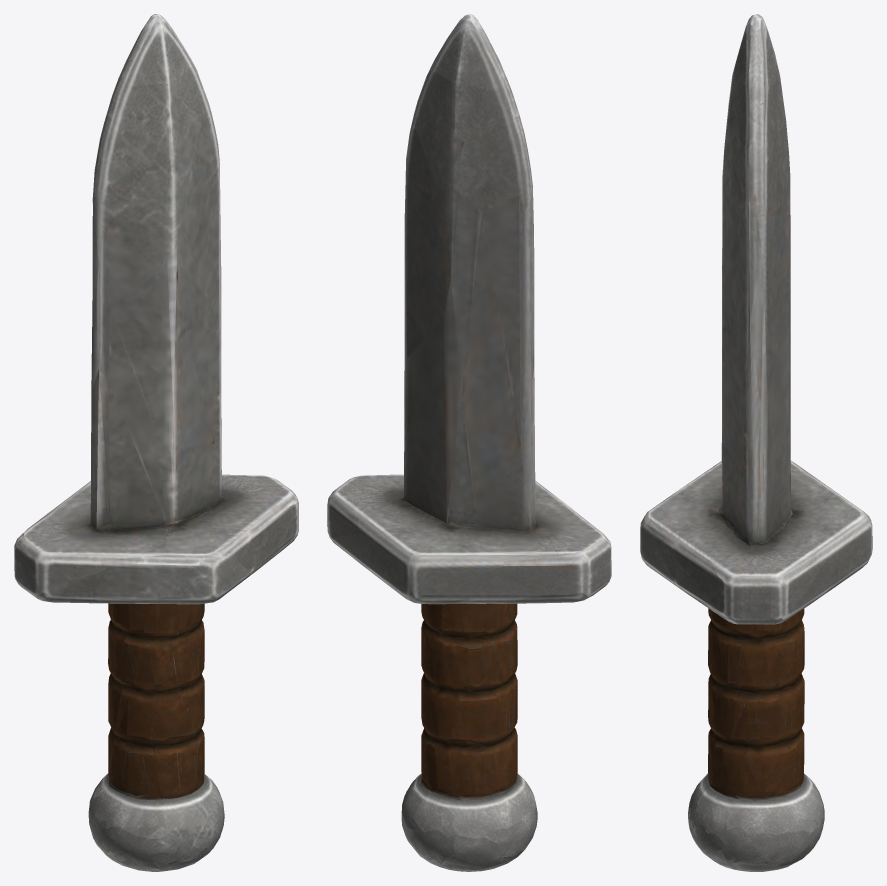
File: minion_sword.glb
3 views of the same model, side by side, from view 1: azimuth 30°, elevation 25°; view 2: azimuth 150°, elevation 25°; view 3: azimuth 270°, elevation 25° (orthographic).
Size of the model in its own units: 0.4938 by 1.51 by 0.3766.
Materials: 1 (1 with a texture image).
